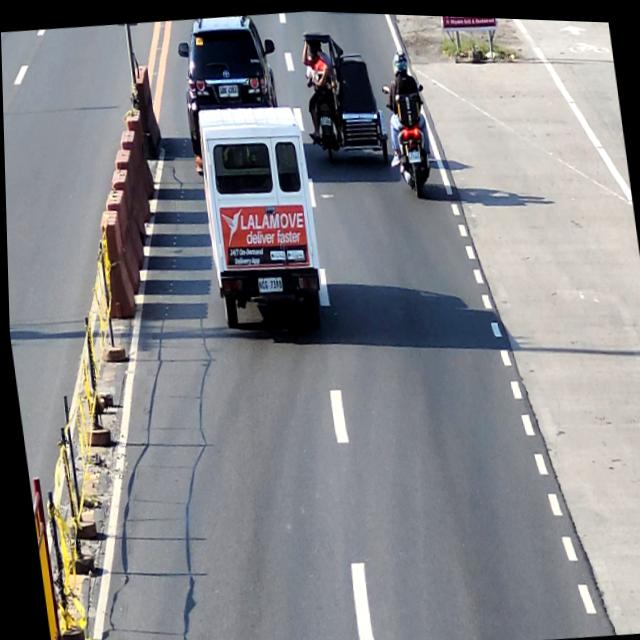Car: (174, 8, 288, 150)
License-Plate: (255, 275, 282, 291), (217, 83, 238, 95), (406, 148, 420, 160), (319, 112, 331, 123)
Motorcycle: (380, 74, 437, 201)
Tricycle: (300, 19, 391, 168)
Truck: (187, 97, 327, 335)
